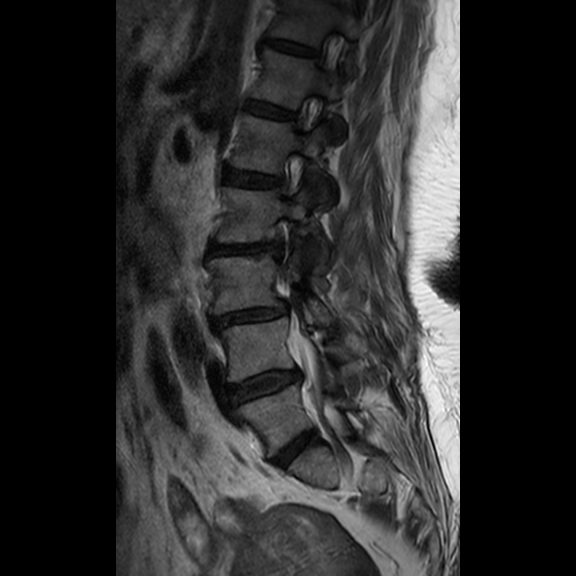LFS0: (264, 144, 319, 205)
